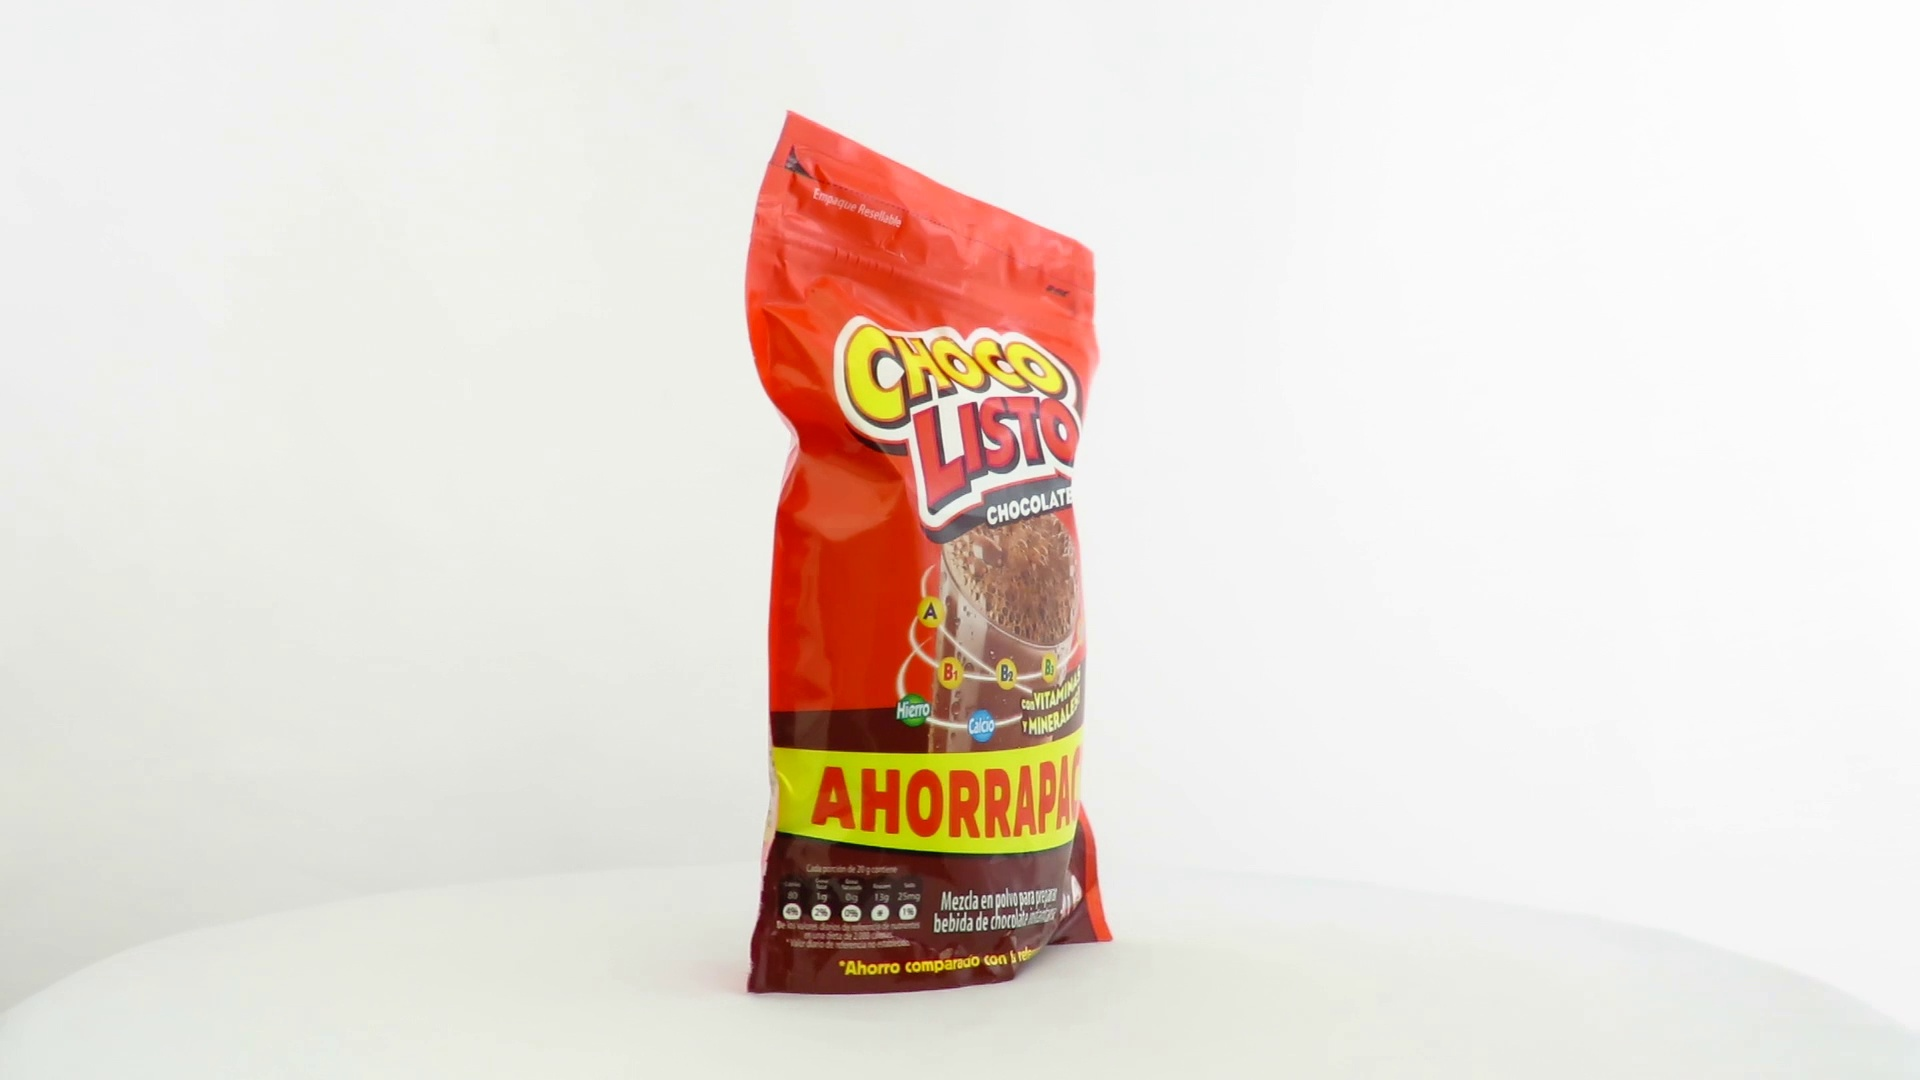COL0170103DYP40000: (738, 105, 1120, 1001)
